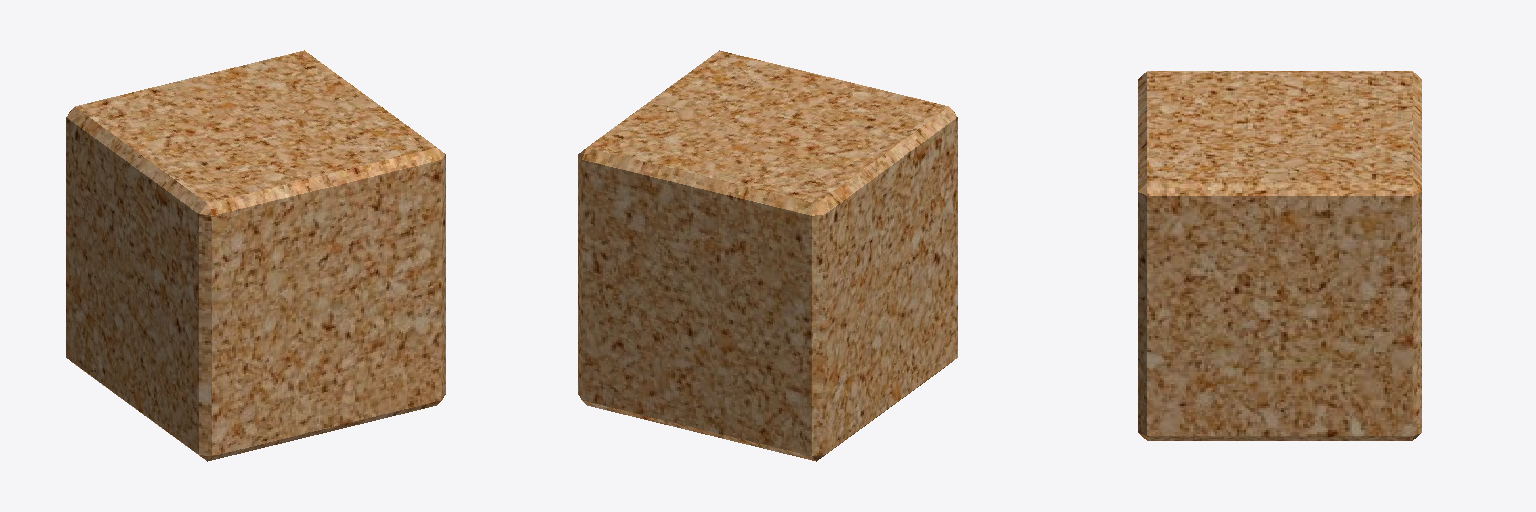
The picture shows the model from 3 angles: view 1: azimuth 30°, elevation 25°; view 2: azimuth 150°, elevation 25°; view 3: azimuth 270°, elevation 25°; orthographic projection.
Parts seen in each view (by area): view 1: Cube.012; view 2: Cube.012; view 3: Cube.012.
Boxes of the visible parts, <box> form: Cube.012: <box>66,50,445,461</box>; Cube.012: <box>578,50,957,461</box>; Cube.012: <box>1138,71,1421,440</box>.
Size of the model in its own units: 1 by 1 by 1.
1 materials, 1 textured.